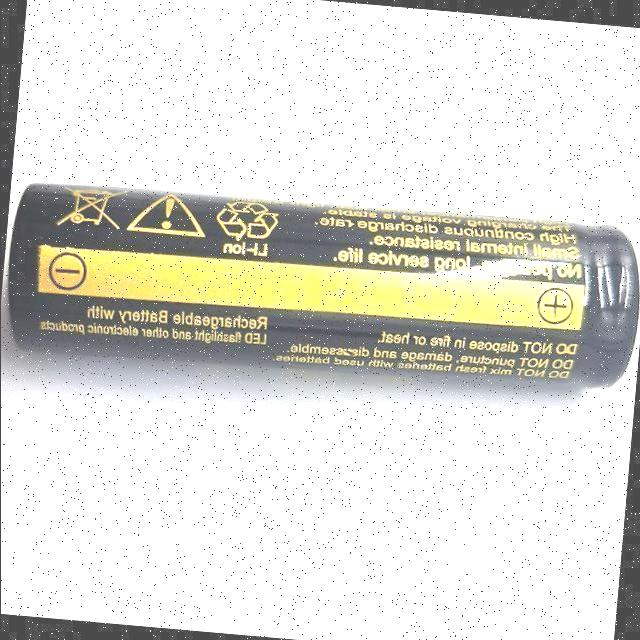AA: (1, 177, 640, 392)
